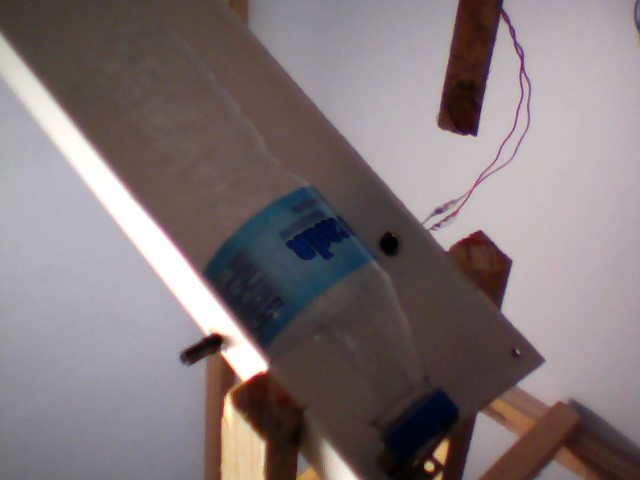plastico: (64, 19, 462, 464)
